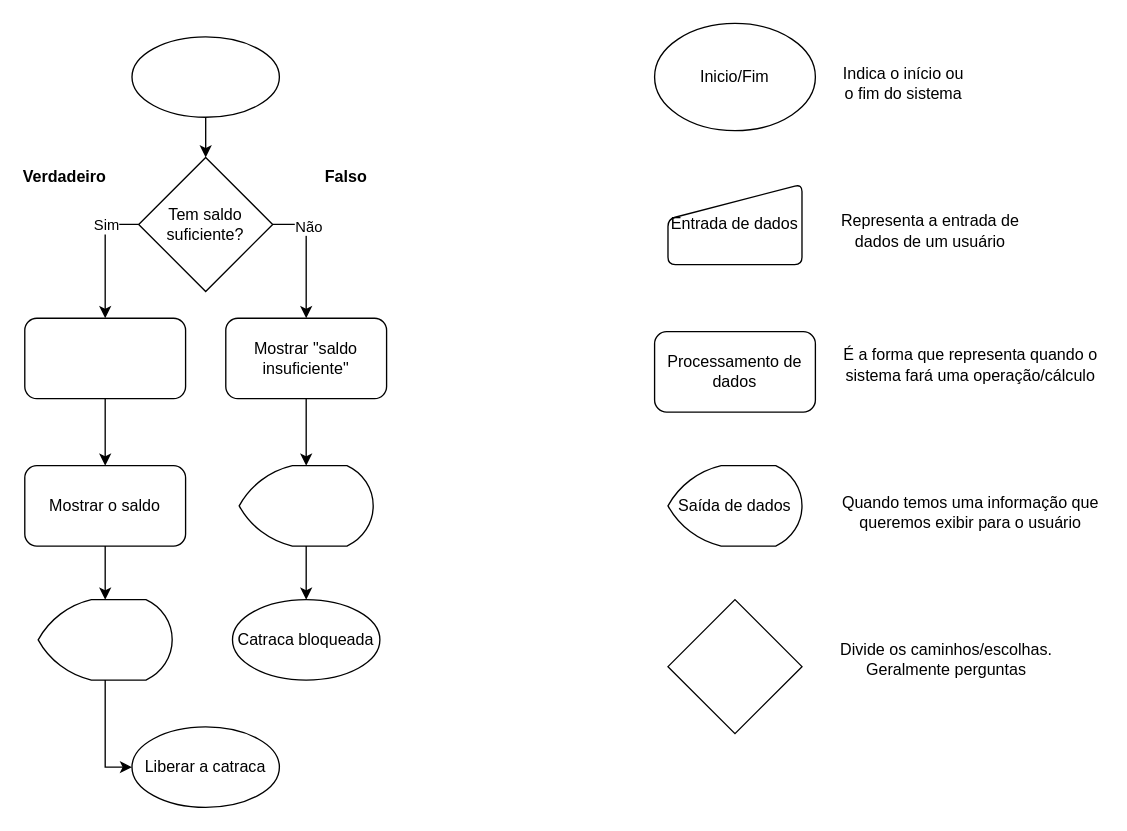
Some shapes in this 1127 by 831 pixel diagram are drawn without their labels. Each missing label, with the centre of its shape:
"Saldo atual: " + Mostrar o saldo: point 104,639
"Saldo insuficiente" + Mostrar o saldo: point 305,505
Descontar o valor da passagem: point 104,358
Encostar o bilhete na catraca: point 205,76
Tomada de decisão: point 734,666
